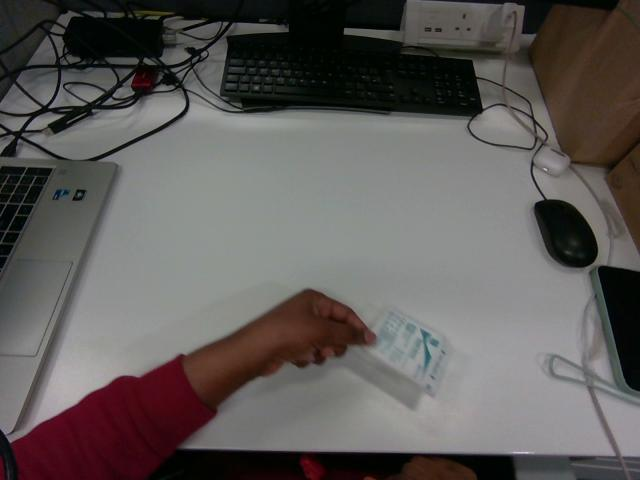gauze: (365, 309, 450, 395)
